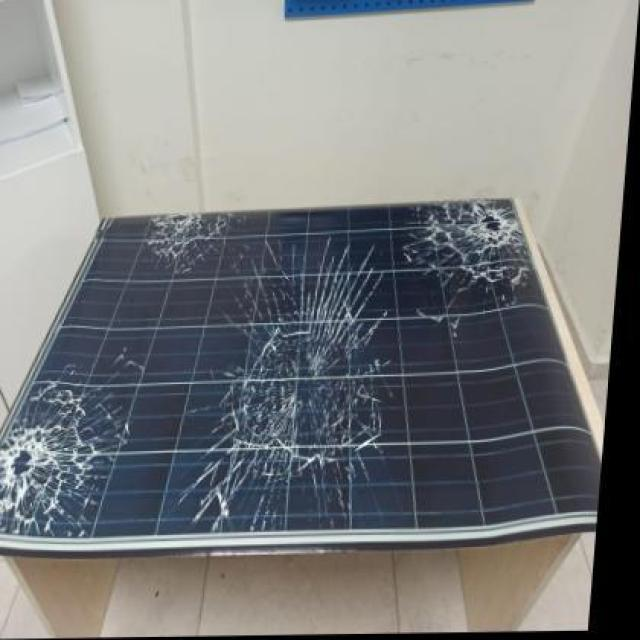cracked: (3, 192, 593, 559)
